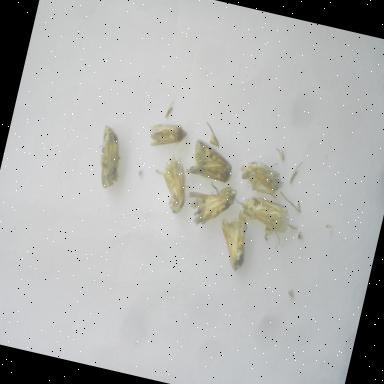abw: (144, 149, 200, 221), (180, 176, 244, 238), (228, 190, 297, 240), (207, 208, 256, 278), (182, 136, 240, 193), (87, 121, 132, 194), (230, 154, 294, 204), (143, 115, 192, 157)
